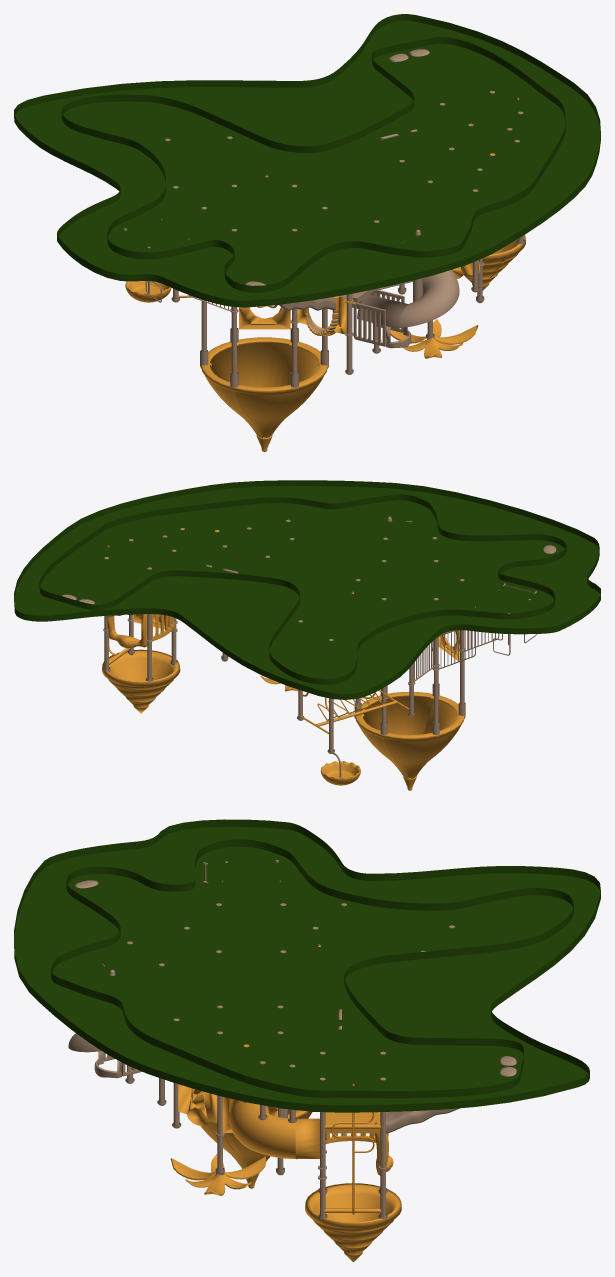
Rendered from Playground2.fbx.
3 views of the same model, one above another, from view 1: azimuth 30°, elevation 25°; view 2: azimuth 150°, elevation 25°; view 3: azimuth 270°, elevation 25° (orthographic). The views are drawn at different scales.
Visible parts, largest first — view 1: Line01, sub021, sub011; view 2: Line01, sub021, sub011; view 3: Line01, sub021, sub011.
Boxes of the visible parts, <box> form: Line01: <box>14,14,600,307</box>; sub021: <box>125,97,525,451</box>; sub011: <box>124,49,524,387</box>; Line01: <box>14,480,600,699</box>; sub021: <box>102,530,465,790</box>; sub011: <box>62,516,556,777</box>; Line01: <box>14,819,600,1112</box>; sub021: <box>170,944,401,1262</box>; sub011: <box>68,860,516,1219</box>.
Bounding box in the file's own units: 1267 × 551 × 1099.
